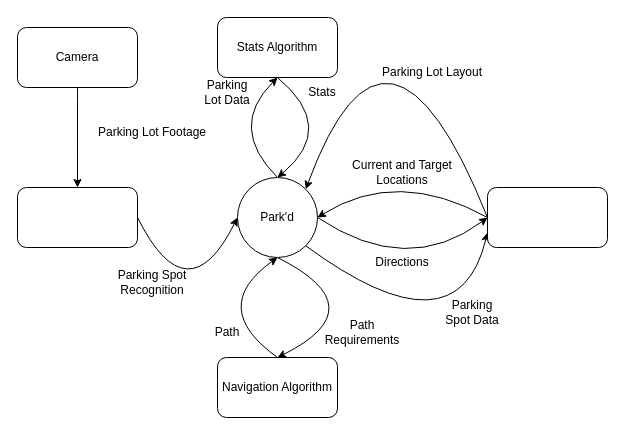
Image size: 625x435. Some labels were removed from this diagram. The centre of each missing label's shape, as x and y in pixels:
Machine Learning Model: (77,217)
User Interface: (547,217)
